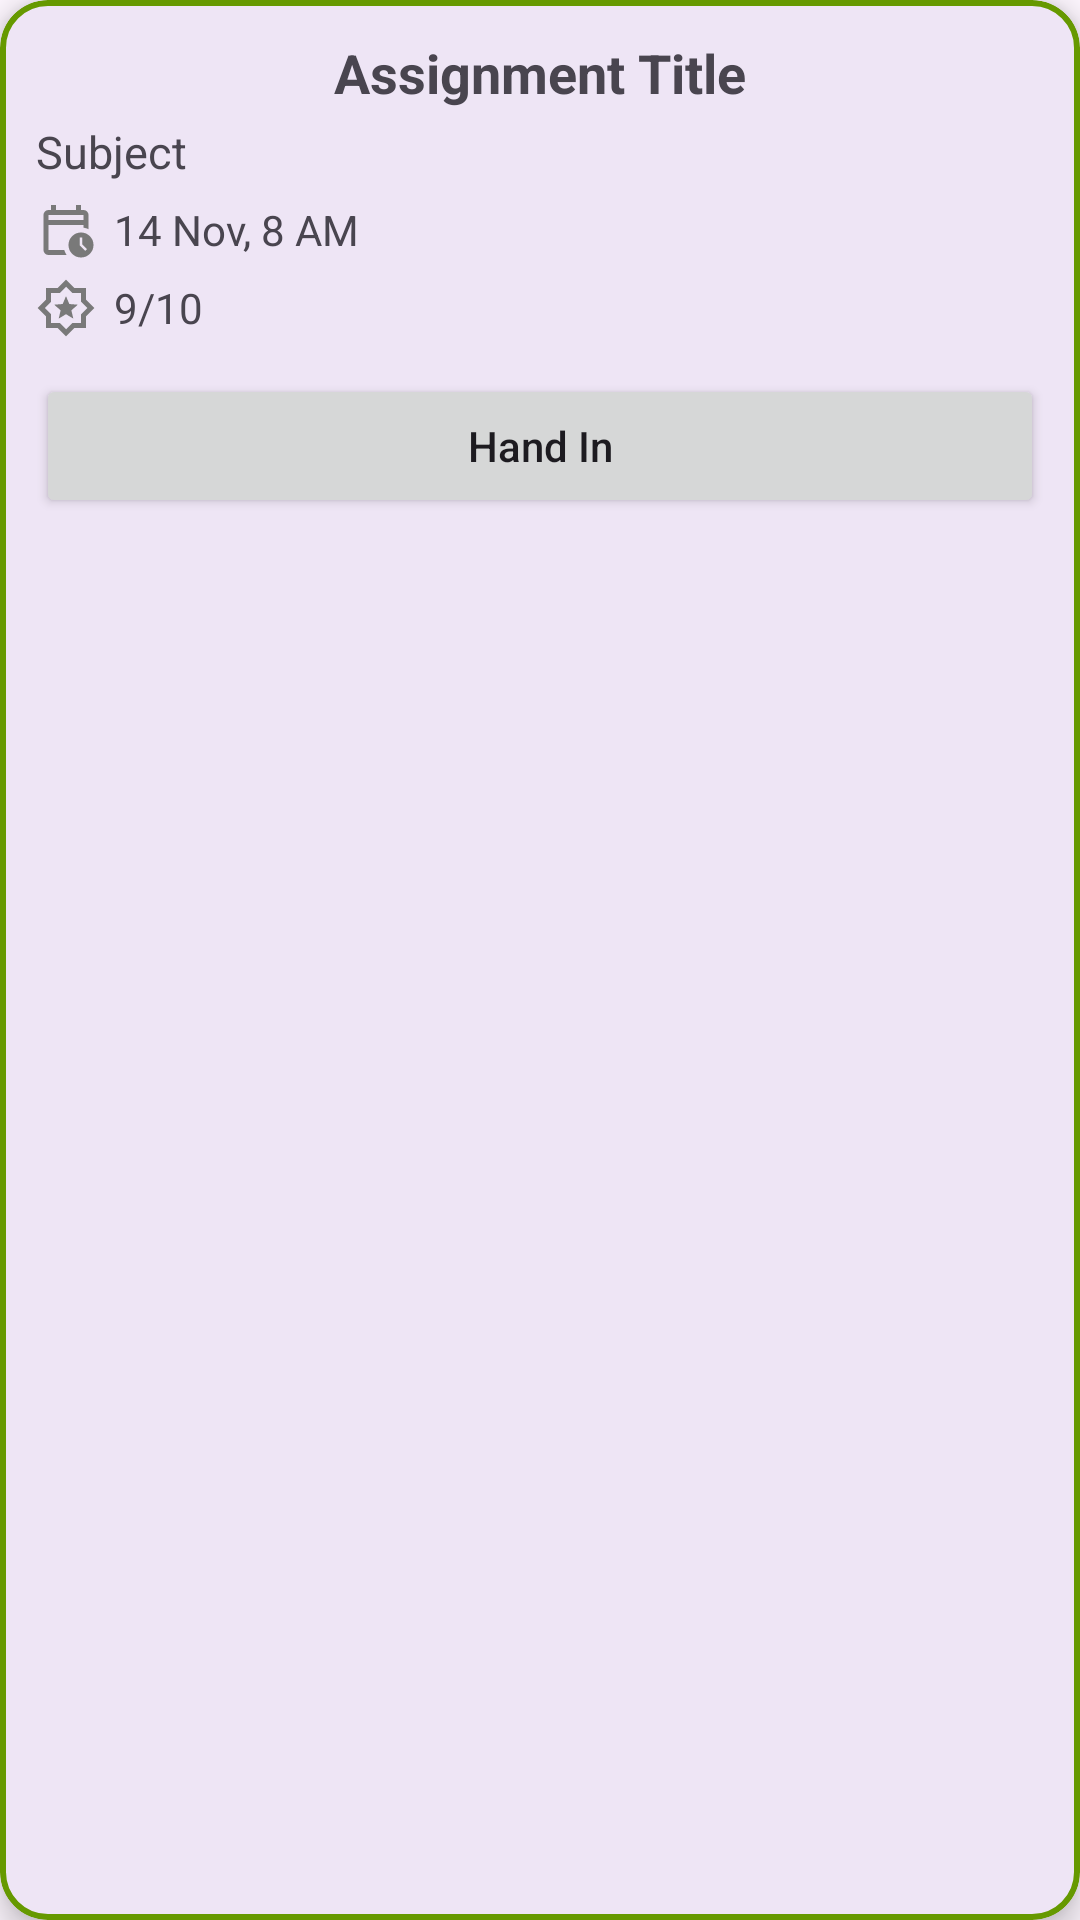

Named icons in this screenshot (1080x1920) and their bounding boxes, (x1, y1, x2, y2):
award star: (38, 280, 94, 336)
calendar clock: (43, 205, 94, 258)
